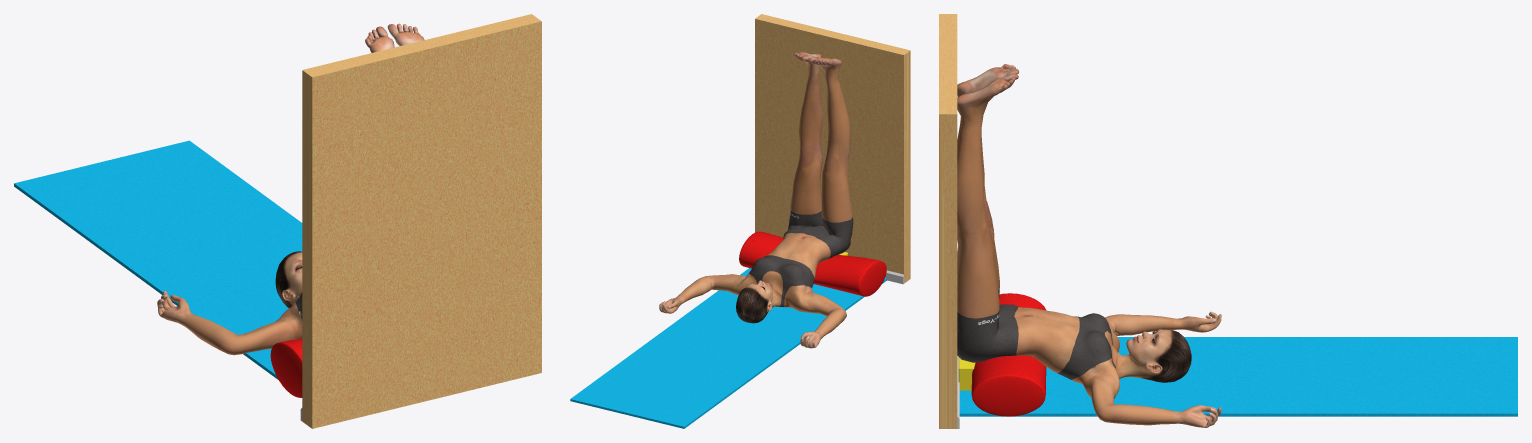
File: viparita_karani.glb
The picture shows the model from 3 angles, left to right: view 1: azimuth 30°, elevation 25°; view 2: azimuth 150°, elevation 25°; view 3: azimuth 270°, elevation 25°; orthographic projection. The views are drawn at different scales.
Visible parts, largest first — view 1: Wall5_jpg-material, Mat-one-piece_jpg-material, Lily_Texture01_06_2016_jpg-material, bolster_jpg_001-material; view 2: Wall5_jpg-material, Mat-one-piece_jpg-material, Lily_Texture01_06_2016_jpg-material, bolster_jpg_001-material; view 3: Mat-one-piece_jpg-material, Lily_Texture01_06_2016_jpg-material, Wall5_jpg-material, bolster_jpg_001-material.
Boxes of the visible parts, bbox=[...] form: Wall5_jpg-material: bbox=[302, 14, 541, 428]; Mat-one-piece_jpg-material: bbox=[14, 140, 302, 379]; Lily_Texture01_06_2016_jpg-material: bbox=[157, 23, 424, 355]; bolster_jpg_001-material: bbox=[270, 338, 302, 397]; Wall5_jpg-material: bbox=[755, 14, 910, 283]; Mat-one-piece_jpg-material: bbox=[570, 268, 886, 428]; Lily_Texture01_06_2016_jpg-material: bbox=[659, 52, 853, 348]; bolster_jpg_001-material: bbox=[739, 231, 886, 296]; Mat-one-piece_jpg-material: bbox=[959, 337, 1517, 416]; Lily_Texture01_06_2016_jpg-material: bbox=[957, 64, 1221, 427]; Wall5_jpg-material: bbox=[939, 14, 957, 428]; bolster_jpg_001-material: bbox=[971, 293, 1046, 416].
Size of the model in its own units: 2.72 by 3.83 by 6.38.
Materials: 6 (4 with a texture image).
